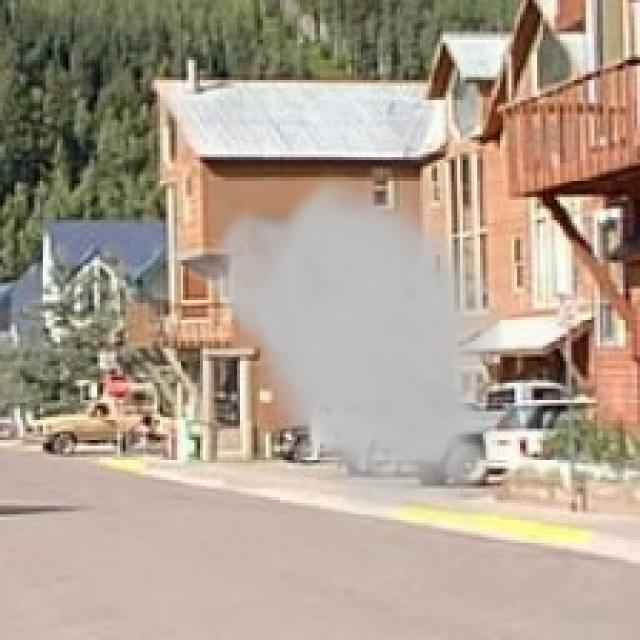Smoke: (146, 162, 512, 538)
